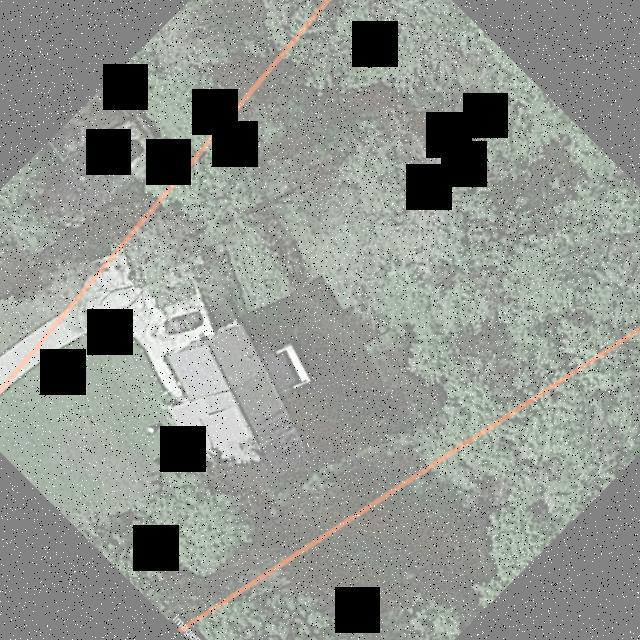Driveway: (19, 230, 212, 397)
House: (165, 319, 309, 500)
Other: (261, 343, 310, 391)
